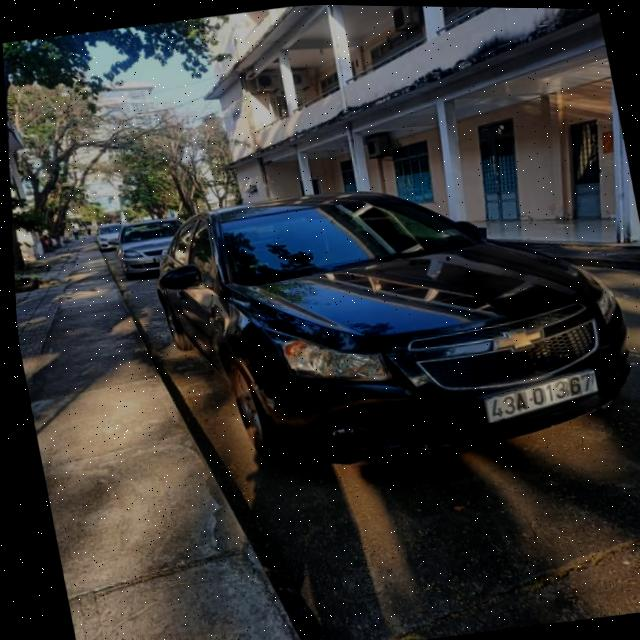car: (141, 171, 640, 494), (111, 209, 182, 279)
plate: (476, 366, 605, 426)
